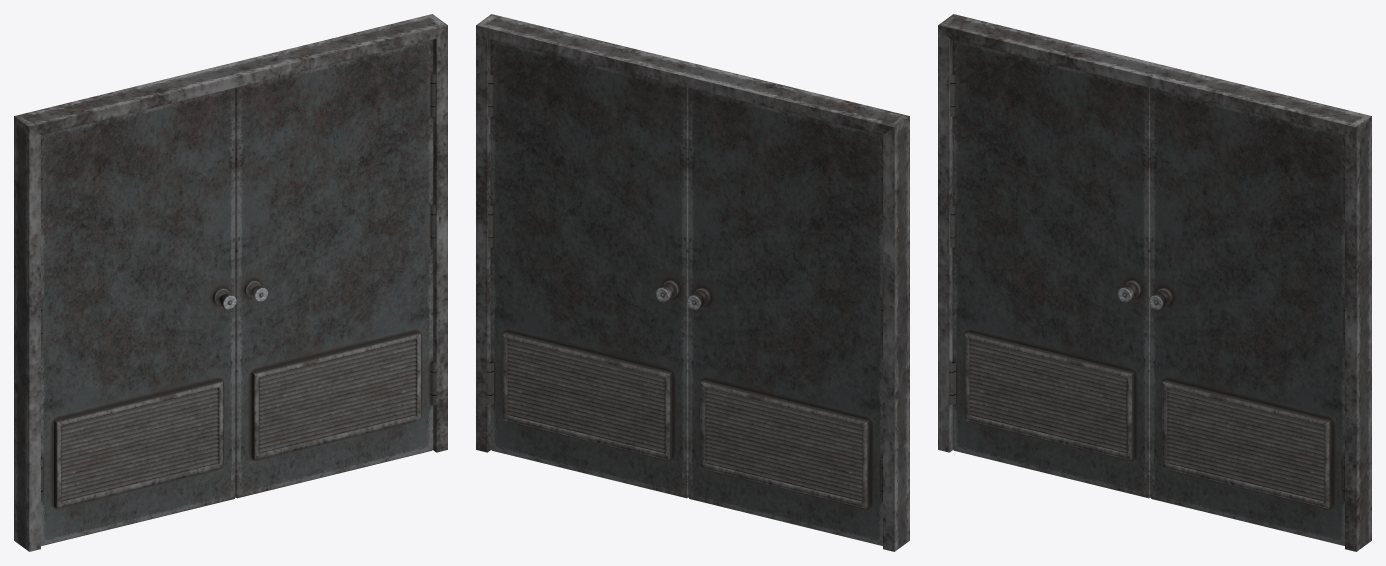
File: Steel_Door_3_B.glb
3 renders of one model, left to right at view 1: azimuth 30°, elevation 25°; view 2: azimuth 150°, elevation 25°; view 3: azimuth 330°, elevation 25°, orthographic.
Visible parts, largest first — view 1: Door_1, Door_2, Door_Frame; view 2: Door_1, Door_2, Door_Frame; view 3: Door_2, Door_1, Door_Frame.
Boxes of the visible parts, <box> form: Door_1: <box>235,39,436,498</box>; Door_2: <box>41,88,235,545</box>; Door_Frame: <box>14,14,447,551</box>; Door_1: <box>487,39,688,498</box>; Door_2: <box>688,88,882,545</box>; Door_Frame: <box>476,14,909,551</box>; Door_2: <box>949,39,1150,498</box>; Door_1: <box>1150,88,1344,545</box>; Door_Frame: <box>938,14,1371,551</box>.
Size of the model in its own units: 2.12 by 2.05 by 0.2657.
Materials: 1 (1 with a texture image).
